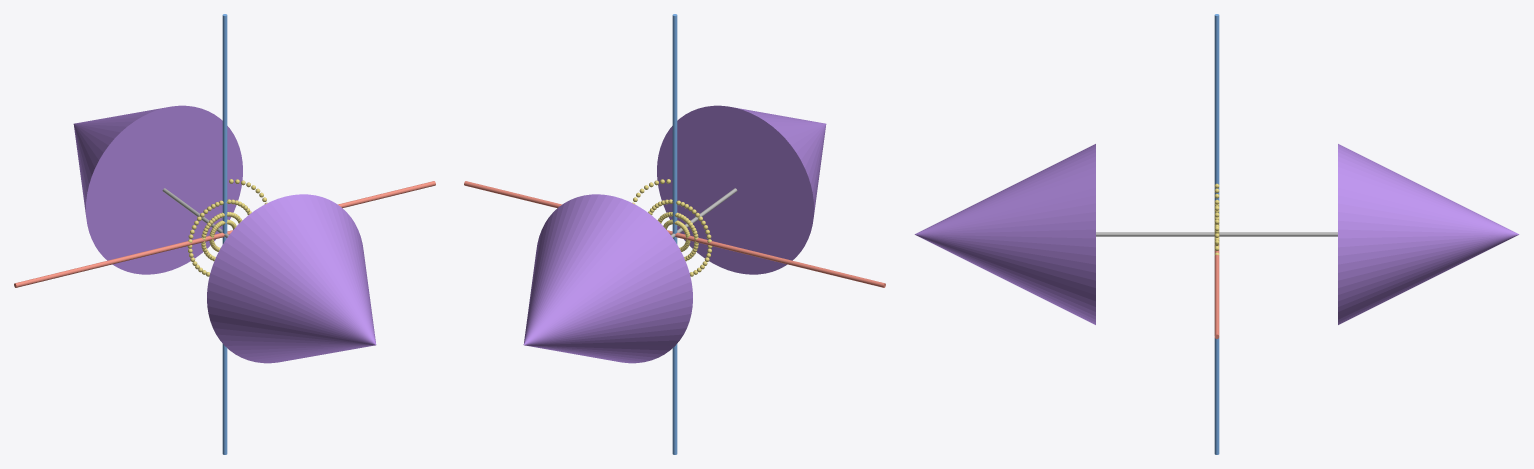
The model's file is P14_P16_layers.glb.
3 views of the same model, side by side, from view 1: azimuth 30°, elevation 25°; view 2: azimuth 150°, elevation 25°; view 3: azimuth 270°, elevation 25° (orthographic).
Parts seen in each view (by area): view 1: cone_up, cone_down, arm_Y, arm_X; view 2: cone_down, cone_up, arm_Y, arm_X; view 3: cone_up, cone_down, arm_Y, axis_Z.
Boxes of the visible parts, x1=… form: cone_up: x1=207, y1=194, x2=376, y2=363; cone_down: x1=73, y1=105, x2=242, y2=274; arm_Y: x1=222, y1=14, x2=227, y2=454; arm_X: x1=14, y1=181, x2=435, y2=287; cone_down: x1=523, y1=194, x2=692, y2=363; cone_up: x1=657, y1=105, x2=826, y2=274; arm_Y: x1=672, y1=14, x2=677, y2=454; arm_X: x1=464, y1=181, x2=885, y2=287; cone_up: x1=914, y1=144, x2=1095, y2=324; cone_down: x1=1338, y1=144, x2=1519, y2=324; arm_Y: x1=1214, y1=14, x2=1219, y2=454; axis_Z: x1=1096, y1=232, x2=1337, y2=236.
Bounding box in the file's own units: 2.4 × 2.4 × 3.
